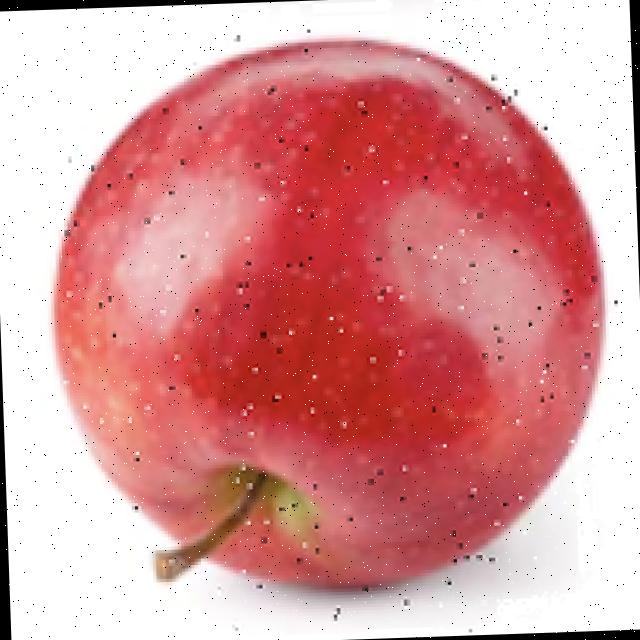apple: (41, 0, 617, 635)
